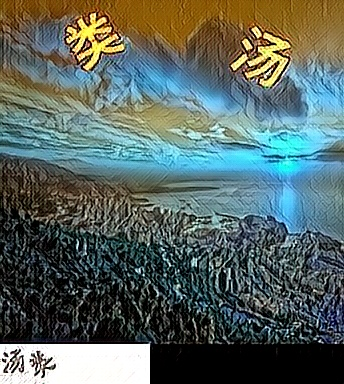C0E0: (63, 8, 128, 72)
CCC0: (227, 22, 292, 86)
